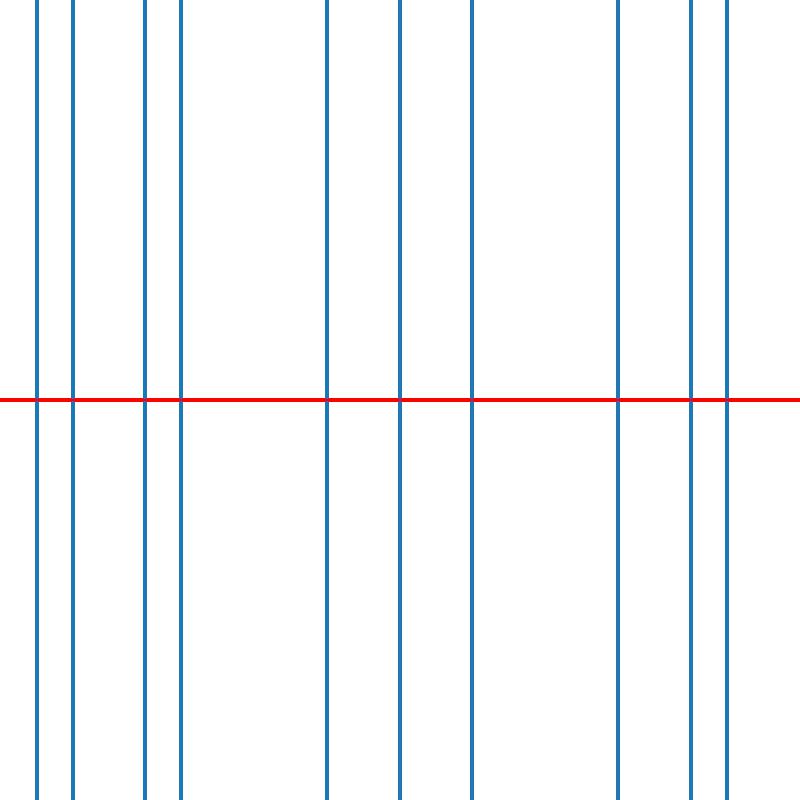root: (32, 396, 40, 404), (141, 396, 149, 404), (178, 396, 185, 404), (69, 396, 76, 404), (396, 396, 403, 404), (323, 396, 330, 404), (687, 396, 694, 404), (614, 396, 621, 404), (469, 396, 476, 404), (723, 396, 730, 404)
